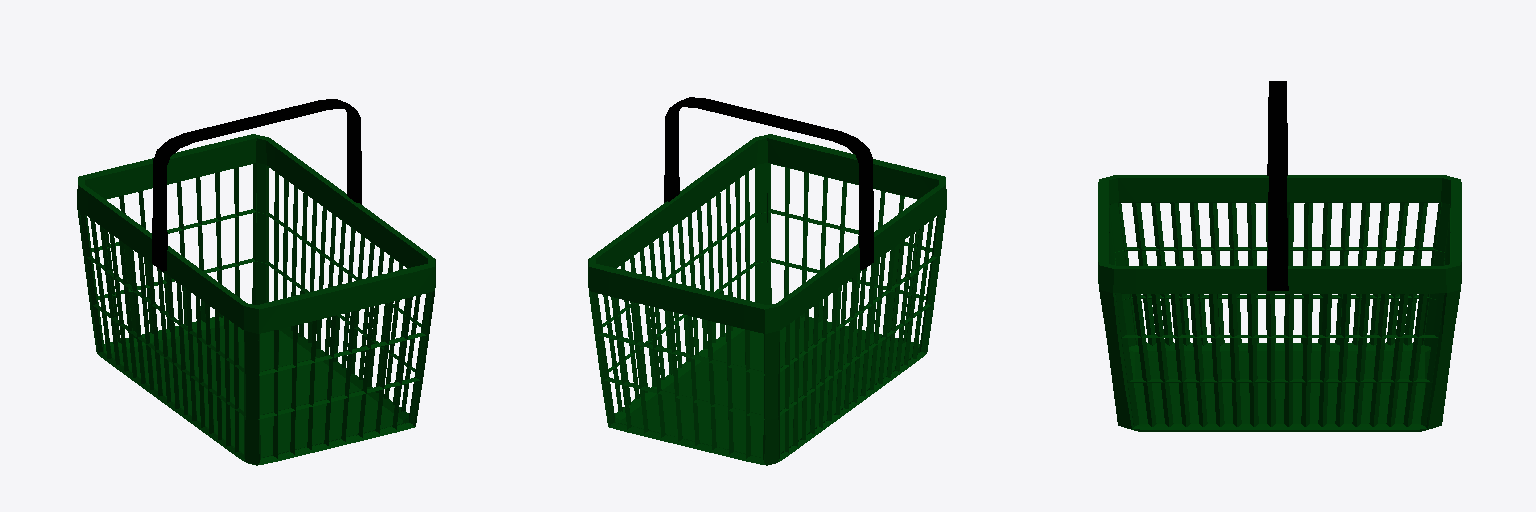
File: basket.obj
3 renders of one model, left to right at view 1: azimuth 30°, elevation 25°; view 2: azimuth 150°, elevation 25°; view 3: azimuth 270°, elevation 25°, orthographic.
Visible parts, largest first — view 1: basketcase_Cube.001, mesh_Cube, handle_Cube.002; view 2: basketcase_Cube.001, mesh_Cube, handle_Cube.002; view 3: basketcase_Cube.001, mesh_Cube, handle_Cube.002.
Part boxes in pixels (left/top/right/bottom): basketcase_Cube.001: left=77, top=134, right=435, bottom=465; mesh_Cube: left=80, top=163, right=432, bottom=462; handle_Cube.002: left=152, top=99, right=361, bottom=271; basketcase_Cube.001: left=588, top=134, right=946, bottom=465; mesh_Cube: left=591, top=163, right=943, bottom=462; handle_Cube.002: left=664, top=97, right=873, bottom=269; basketcase_Cube.001: left=1098, top=175, right=1461, bottom=431; mesh_Cube: left=1109, top=202, right=1450, bottom=426; handle_Cube.002: left=1267, top=81, right=1288, bottom=290.
Size of the model in its own units: 1.58 by 2.07 by 2.49.